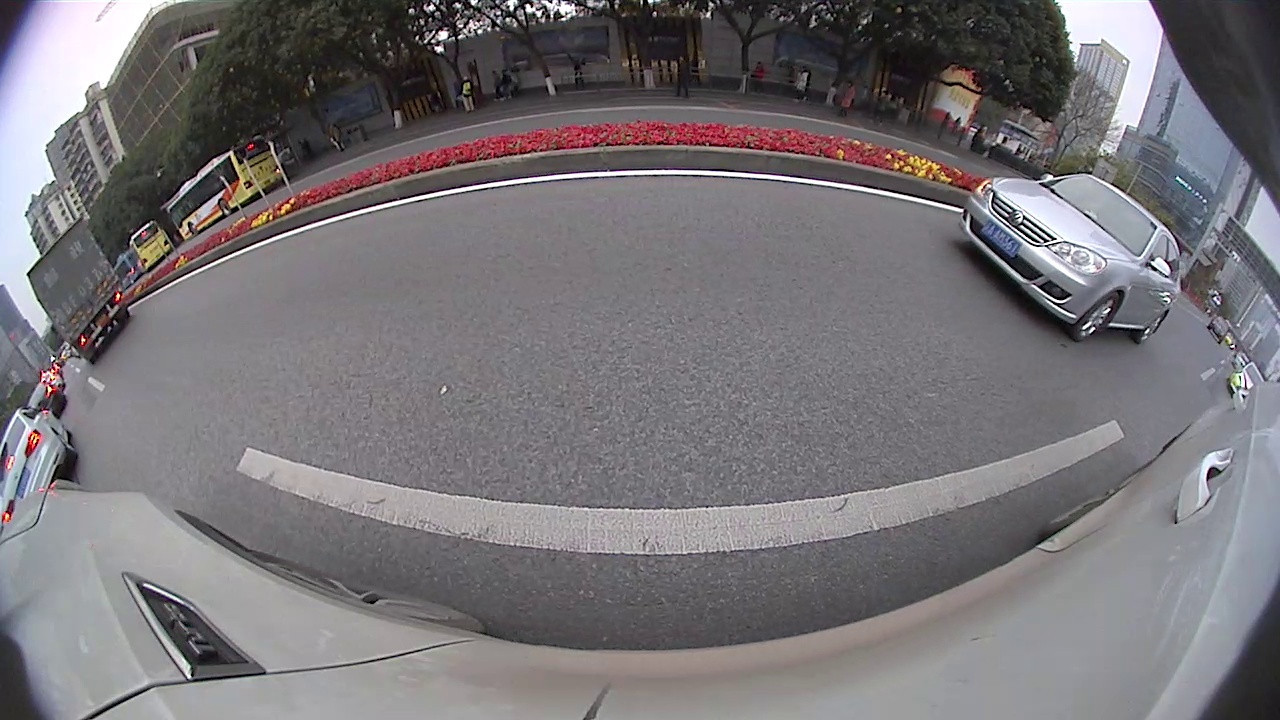bus: (164, 133, 289, 246), (127, 219, 176, 278)
car: (962, 171, 1184, 343), (2, 409, 79, 530), (20, 382, 68, 423), (1230, 363, 1269, 402), (1208, 313, 1233, 347)
front: (1067, 286, 1124, 341)
rear: (1140, 308, 1171, 340), (53, 427, 77, 462), (218, 198, 235, 218)
truck: (24, 214, 133, 369)
